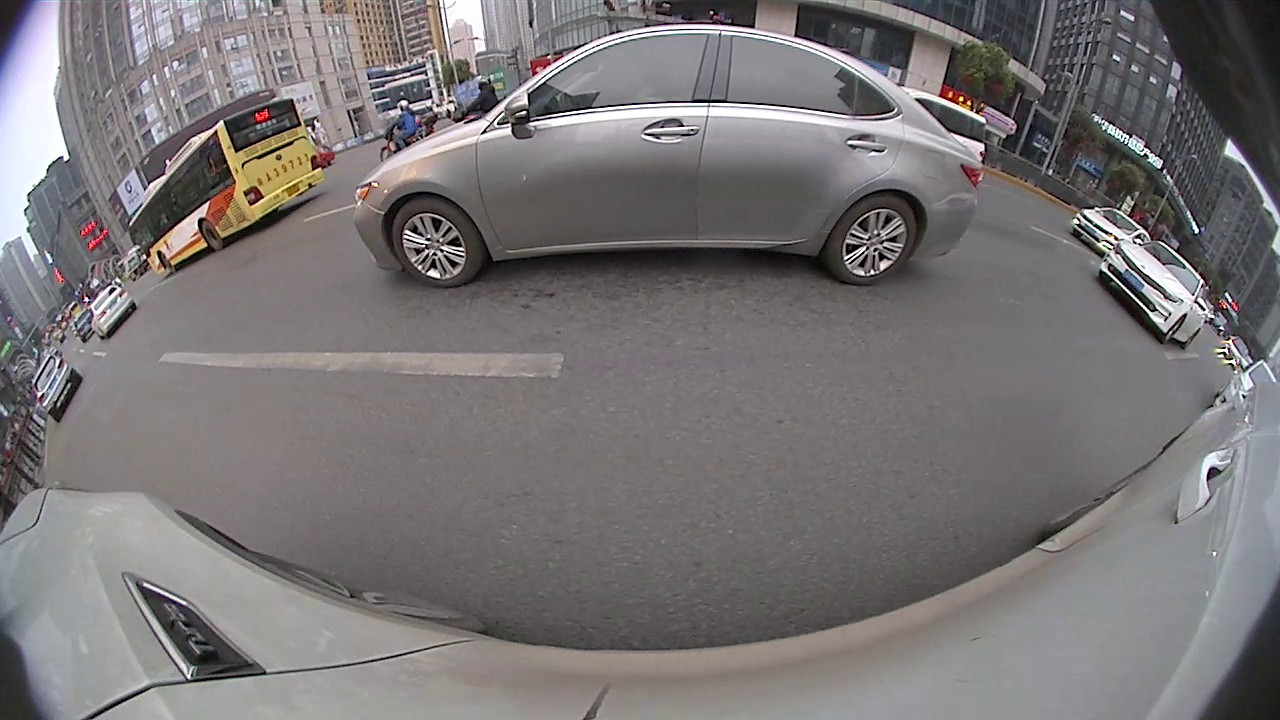bus: (124, 94, 323, 280)
car: (348, 27, 986, 294), (1093, 237, 1212, 349), (1071, 204, 1154, 267), (31, 351, 81, 428), (88, 283, 137, 342)
front: (389, 196, 489, 291)
rear: (822, 194, 921, 287), (199, 220, 225, 252)
rider: (374, 98, 439, 161)
